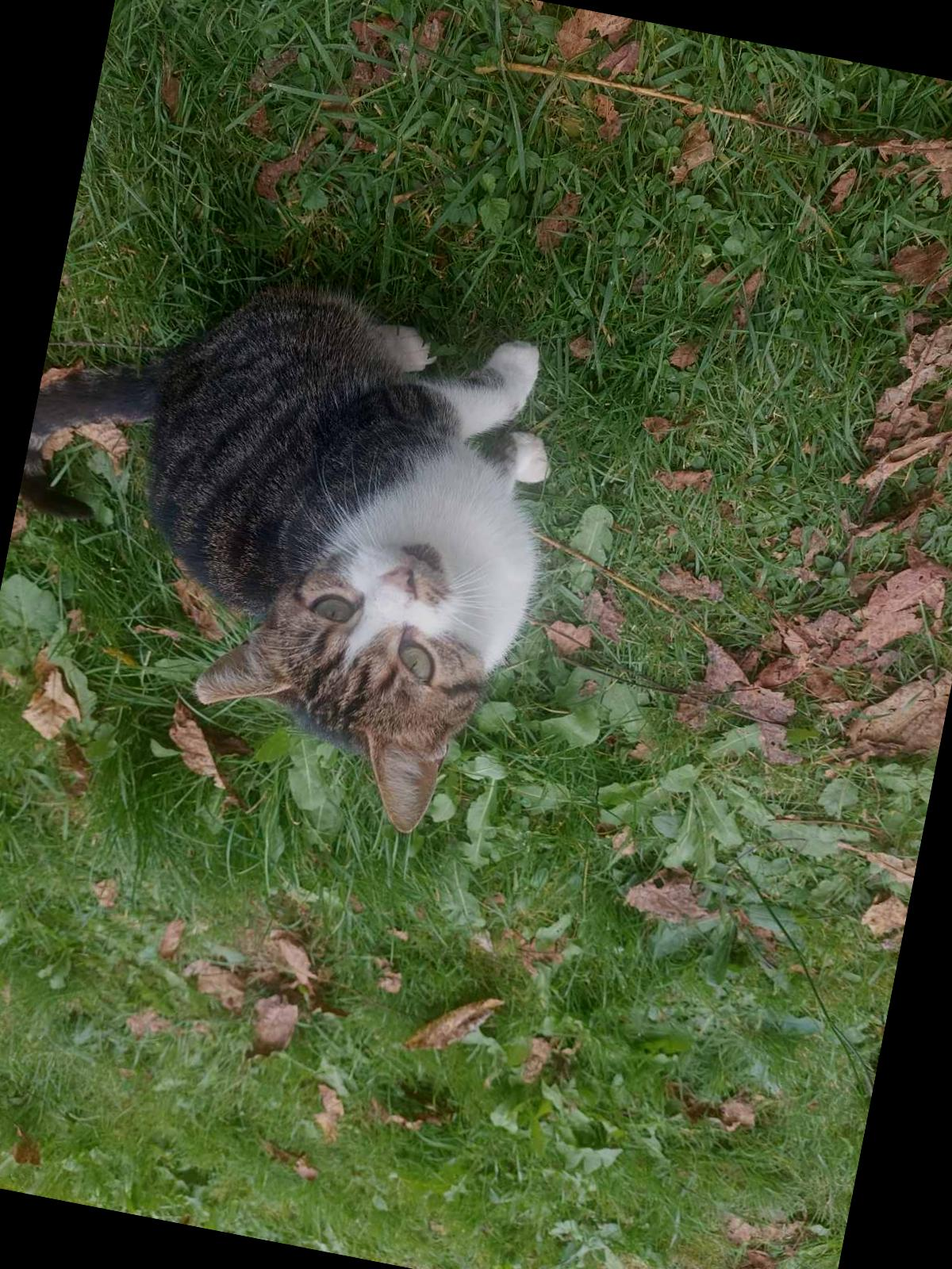macka: (0, 236, 582, 846)
